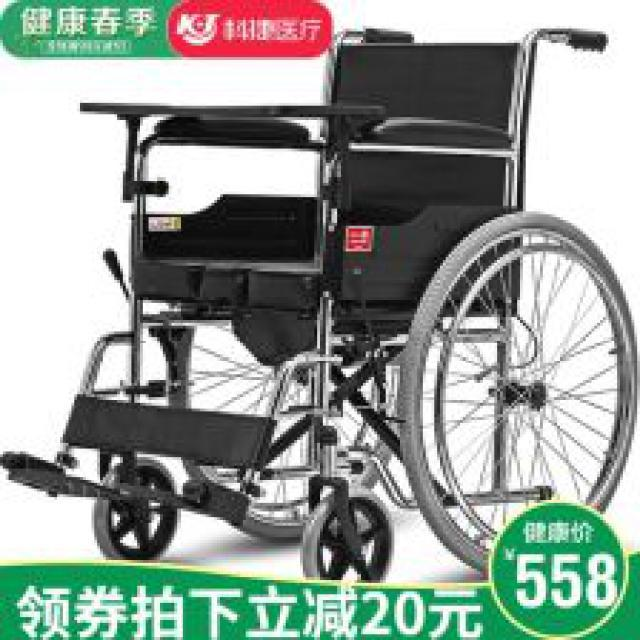wheelchair: (0, 23, 632, 564)
